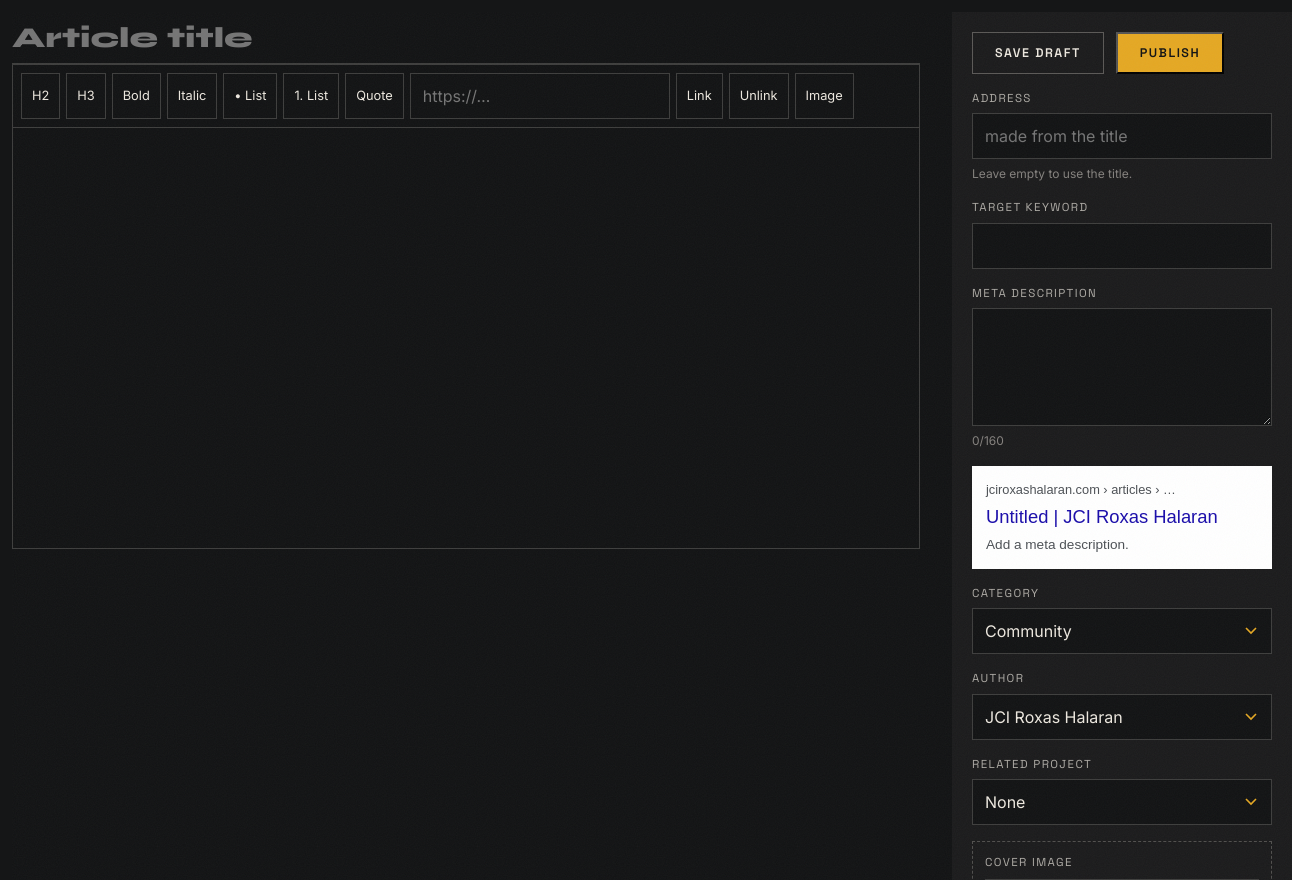
Test: ArticleEditor › keeps the editor and shows the error when saving fails
Type "My draft" into the field labelled "title" at (466, 38), box [12,12,920,64]
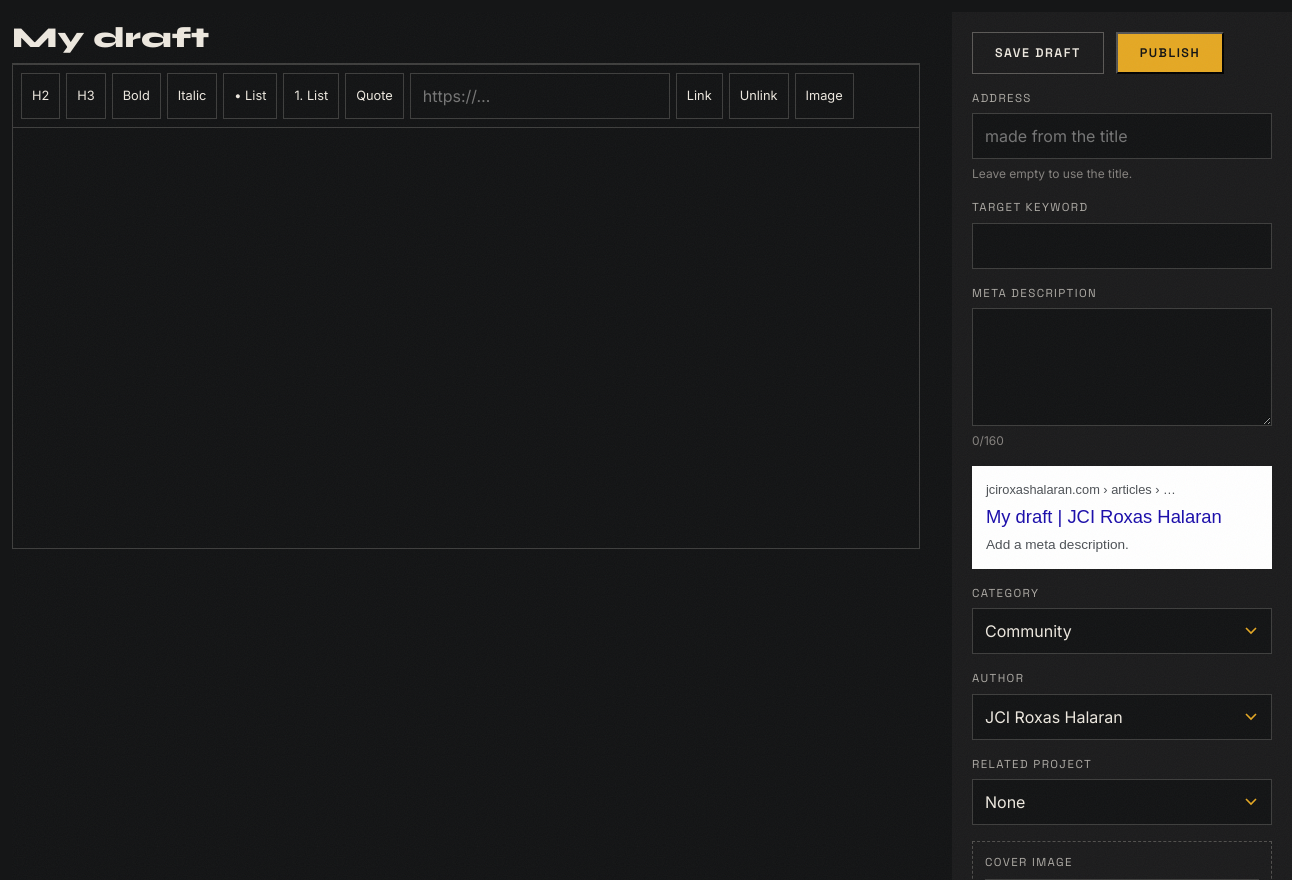
Click the button "Save draft" at (1038, 53), box [972,32,1104,74]
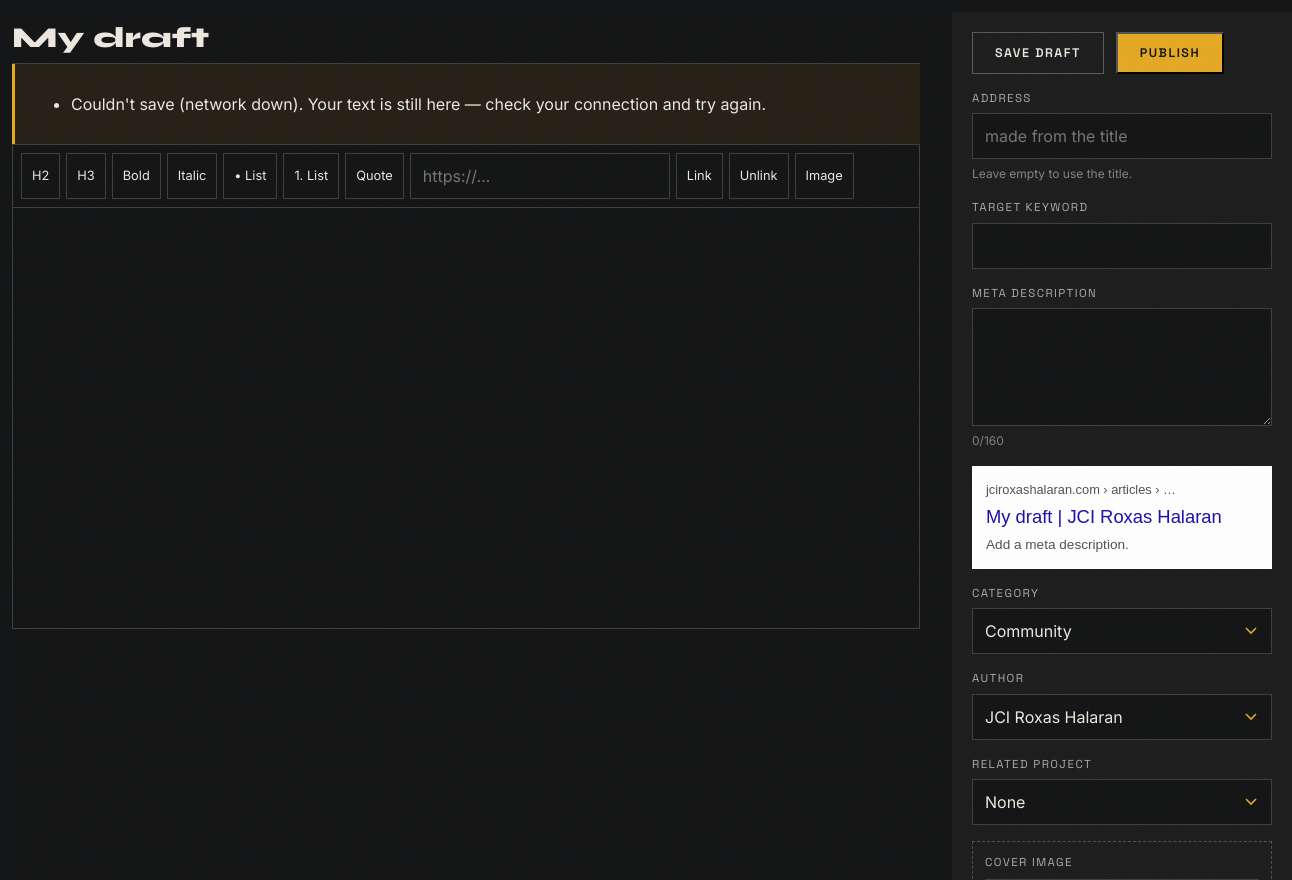
Now the message shows "Couldn't save (network down)", box [71,94,766,114]
